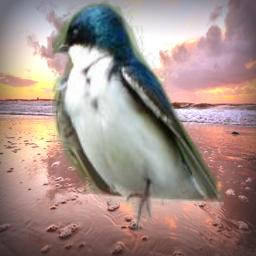Swallow: (52, 0, 224, 234)
